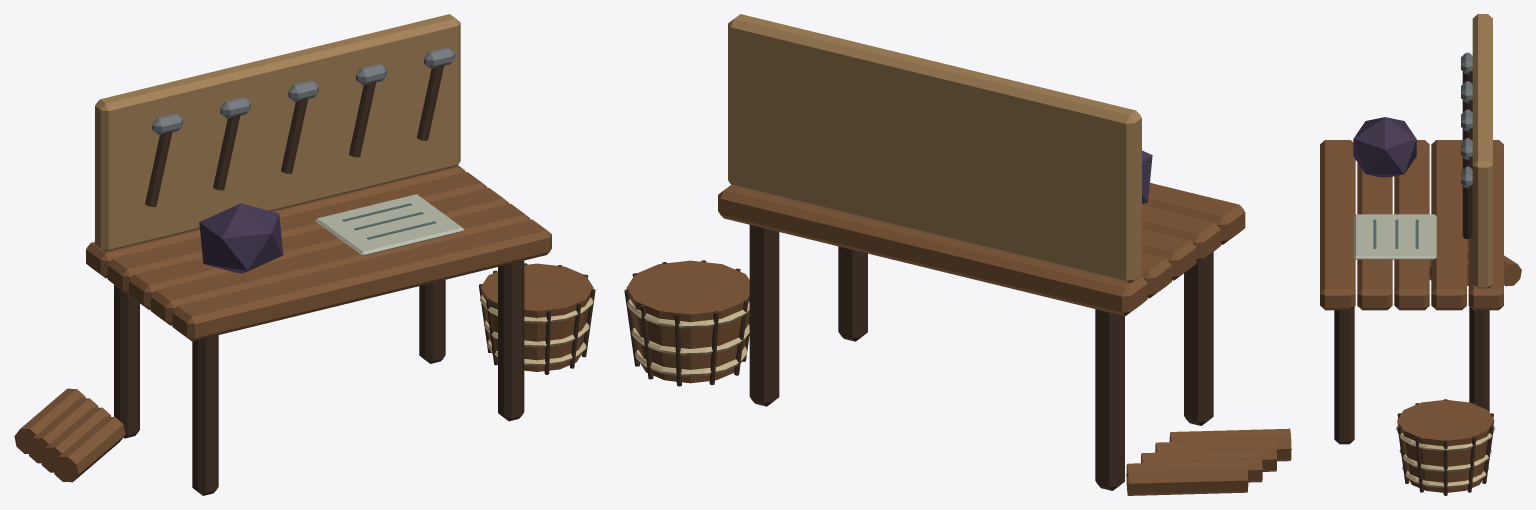
The model's file is workshop.glb.
3 renders of one model, left to right at view 1: azimuth 30°, elevation 25°; view 2: azimuth 150°, elevation 25°; view 3: azimuth 270°, elevation 25°, orthographic. The views are drawn at different scales.
Parts seen in each view (by area): view 1: CampWorkshop; view 2: CampWorkshop; view 3: CampWorkshop.
Boxes of the visible parts, left/top/right/bottom form: CampWorkshop: left=14, top=14, right=595, bottom=495; CampWorkshop: left=624, top=14, right=1291, bottom=495; CampWorkshop: left=1320, top=14, right=1521, bottom=495.
Size of the model in its own units: 3.29 by 1.9 by 1.2.
